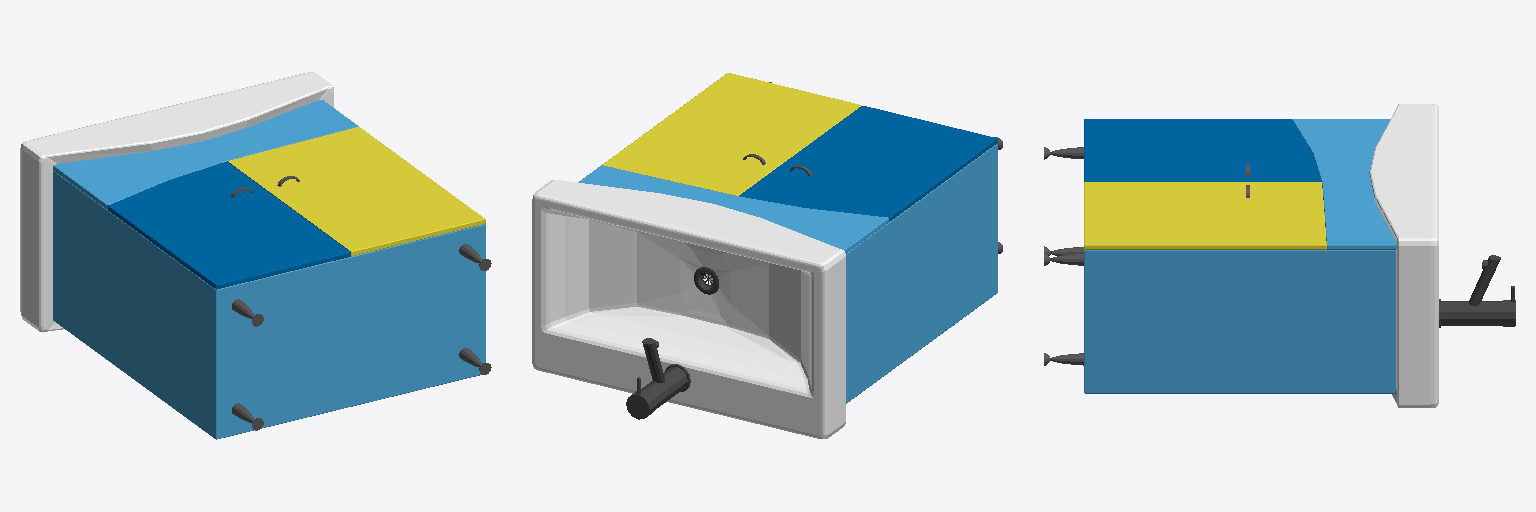
URDF robot description (74):
<robot name="74">


	<link name="0:virtual">
		<visual>
			<origin xyz="0.0 0.0 0.0" rpy="0 0 0"/>
			<geometry>
				<cylinder length="0" radius="0"/>
			</geometry>
		</visual>
	</link>


	<link name="1:static">
		<visual>
			<origin xyz="-0.0 -0.0 -0.0" rpy="0 0 0"/>
			<geometry>
				<mesh filename="../raw_data/74/part_meshes/1.dae" />
			</geometry>
		</visual>
	</link>


	<link name="2:faucet base 1">
		<visual>
			<origin xyz="-9.057687326563535e-08 -0.9140680134296417 0.134774663520808" rpy="0 0 0"/>
			<geometry>
				<mesh filename="../raw_data/74/part_meshes/2.dae" />
			</geometry>
		</visual>
	</link>


	<link name="3:cabinet door 1">
		<visual>
			<origin xyz="-0.31957098841667175 -0.34459175541996956 -0.1640470027923584" rpy="0 0 0"/>
			<geometry>
				<mesh filename="../raw_data/74/part_meshes/3.dae" />
			</geometry>
		</visual>
	</link>


	<link name="4:cabinet door 2">
		<visual>
			<origin xyz="0.31957098841667225 -0.3393567390739918 -0.17512799644470214" rpy="0 0 0"/>
			<geometry>
				<mesh filename="../raw_data/74/part_meshes/4.dae" />
			</geometry>
		</visual>
	</link>


	<link name="5:faucet spout 1">
		<visual>
			<origin xyz="0.013174699619412422 -0.9051439762115479 0.12355300039052963" rpy="0 0 0"/>
			<geometry>
				<mesh filename="../raw_data/74/part_meshes/5.dae" />
			</geometry>
		</visual>
	</link>


	<link name="6:faucet handle 1">
		<visual>
			<origin xyz="0.0001647026781300357 -0.9943904876708984 0.13538968784478717" rpy="0 0 0"/>
			<geometry>
				<mesh filename="../raw_data/74/part_meshes/6.dae" />
			</geometry>
		</visual>
	</link>


	<joint name="0:virtual::1:static" type="fixed">
		<parent link="0:virtual"/>
		<child link="1:static"/>
		<origin xyz="0.0 0.0 0.0" rpy="0 0 0"/>
	</joint>


	<joint name="0:virtual::2:faucet base 1_rotation" type="revolute">
		<parent link="0:virtual"/>
		<child link="2:faucet base 1"/>
		<origin xyz="9.057687326563535e-08 0.9140680134296417 -0.134774663520808" rpy="0 0 0"/>
		<limit lower="-1.0995574287564276" upper="0.5811946409141118" effort="10" velocity="3"/>
		<axis xyz="0.0 1.0 0.0"/>
	</joint>


	<joint name="0:virtual::3:cabinet door 1_rotation" type="revolute">
		<parent link="0:virtual"/>
		<child link="3:cabinet door 1"/>
		<origin xyz="0.31957098841667175 0.34459175541996956 0.1640470027923584" rpy="0 0 0"/>
		<limit lower="0.0" upper="2.1205750411731104" effort="10" velocity="3"/>
		<axis xyz="0.0 1.0 0.0"/>
	</joint>


	<joint name="0:virtual::4:cabinet door 2_rotation" type="revolute">
		<parent link="0:virtual"/>
		<child link="4:cabinet door 2"/>
		<origin xyz="-0.31957098841667225 0.3393567390739918 0.17512799644470214" rpy="0 0 0"/>
		<limit lower="-1.7749998492782328" upper="0.0" effort="10" velocity="3"/>
		<axis xyz="0.0 1.0 0.0"/>
	</joint>


	<joint name="2:faucet base 1::5:faucet spout 1_rotation" type="revolute">
		<parent link="2:faucet base 1"/>
		<child link="5:faucet spout 1"/>
		<origin xyz="-0.013174790196285688 -0.008924037218093872 0.011221663130278364" rpy="0 0 0"/>
		<limit lower="-1.0838494654884785" upper="1.0210176124166828" effort="10" velocity="3"/>
		<axis xyz="0.0 1.0 0.0"/>
	</joint>


	<joint name="2:faucet base 1::6:faucet handle 1_rotation" type="revolute">
		<parent link="2:faucet base 1"/>
		<child link="6:faucet handle 1"/>
		<origin xyz="-0.00016479325500330134 0.08032247424125671 -0.0006150243239791686" rpy="0 0 0"/>
		<limit lower="-0.8796459430051422" upper="0.5811946409141118" effort="10" velocity="3"/>
		<axis xyz="0.0 1.0 0.0"/>
	</joint>


</robot>

--- What the picture shows (computed from the rendered views, not written in the file) ---
Views: 3 orthographic renders of the robot side by side, from view 1: azimuth 30°, elevation 25°; view 2: azimuth 150°, elevation 25°; view 3: azimuth 270°, elevation 25°.
Model 74 with 7 links and 6 joints (5 revolute, 1 fixed), rooted at 0:virtual, posed every joint at zero.
Visible links, largest first — view 1: 1:static, 3:cabinet door 1, 4:cabinet door 2; view 2: 1:static, 3:cabinet door 1, 4:cabinet door 2, 2:faucet base 1, 6:faucet handle 1, 5:faucet spout 1; view 3: 1:static, 3:cabinet door 1, 4:cabinet door 2, 2:faucet base 1, 5:faucet spout 1.
Link boxes in pixels (<box>): 1:static: <box>20,72,491,439</box>; 3:cabinet door 1: <box>228,127,485,256</box>; 4:cabinet door 2: <box>108,161,350,289</box>; 1:static: <box>532,82,1002,438</box>; 3:cabinet door 1: <box>602,73,861,195</box>; 4:cabinet door 2: <box>739,106,997,221</box>; 2:faucet base 1: <box>641,364,690,408</box>; 6:faucet handle 1: <box>626,377,656,419</box>; 5:faucet spout 1: <box>642,338,664,382</box>; 1:static: <box>1044,104,1438,407</box>; 3:cabinet door 1: <box>1084,182,1326,249</box>; 4:cabinet door 2: <box>1084,119,1321,181</box>; 2:faucet base 1: <box>1439,299,1502,327</box>; 5:faucet spout 1: <box>1469,255,1500,305</box>.
Size in the robot's own frame: 0.7002 by 1.01 by 0.4 metres.
Meshes: 6 distinct files referenced, 6 mesh visuals loaded (6 Collada DAE).